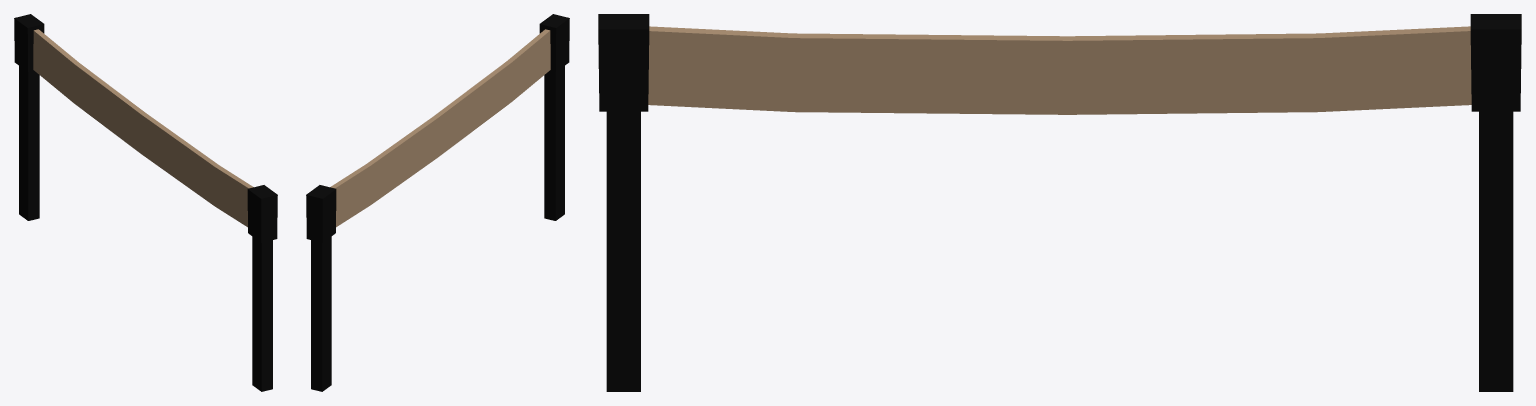
File: CheckPointBanner.obj
3 renders of one model, left to right at view 1: azimuth 30°, elevation 25°; view 2: azimuth 150°, elevation 25°; view 3: azimuth 270°, elevation 25°, orthographic. The views are drawn at different scales.
Parts seen in each view (by area): view 1: CheckpointBanner_Object_0.001; view 2: CheckpointBanner_Object_0.001; view 3: CheckpointBanner_Object_0.001.
Part boxes in pixels (x1,y1,x2,y2): CheckpointBanner_Object_0.001: [14, 14, 277, 391]; CheckpointBanner_Object_0.001: [306, 14, 569, 391]; CheckpointBanner_Object_0.001: [598, 14, 1521, 391].
Bounding box in the file's own units: 0.5858 × 6.56 × 15.03.
